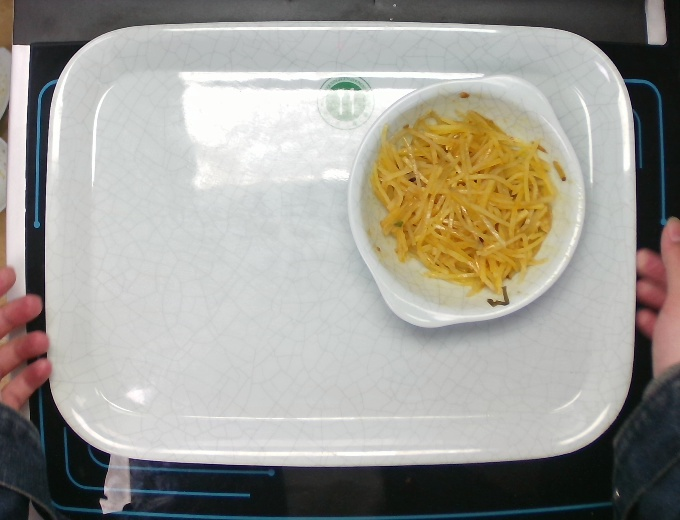JYsf-Shuang_Er_Wan: (342, 69, 588, 335)
